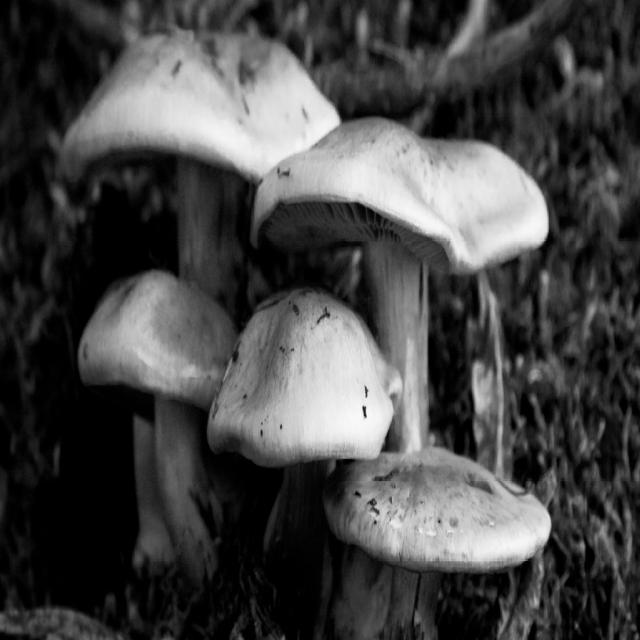Mushroom: (56, 24, 551, 639), (196, 287, 412, 523), (324, 445, 552, 639)
